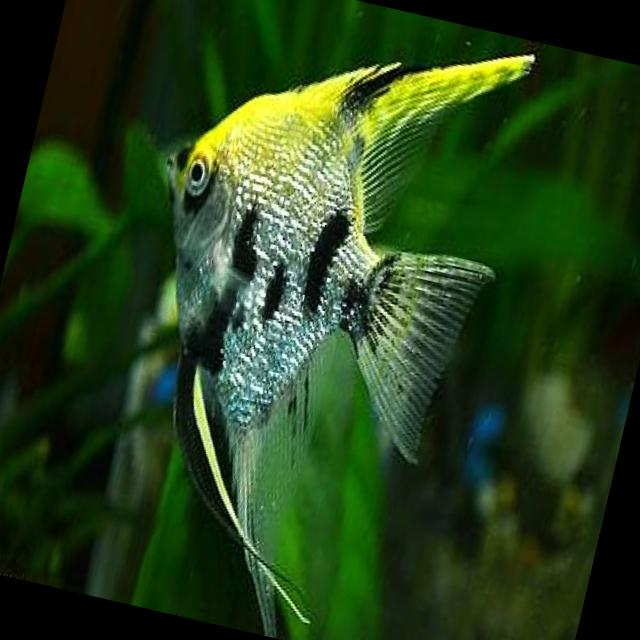AngelFish: (76, 0, 539, 640)
